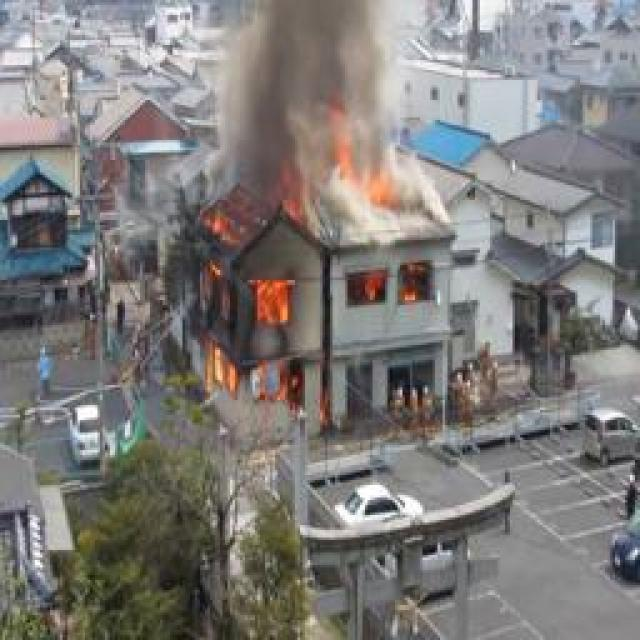Fire: (203, 222, 301, 408), (348, 262, 436, 313)
